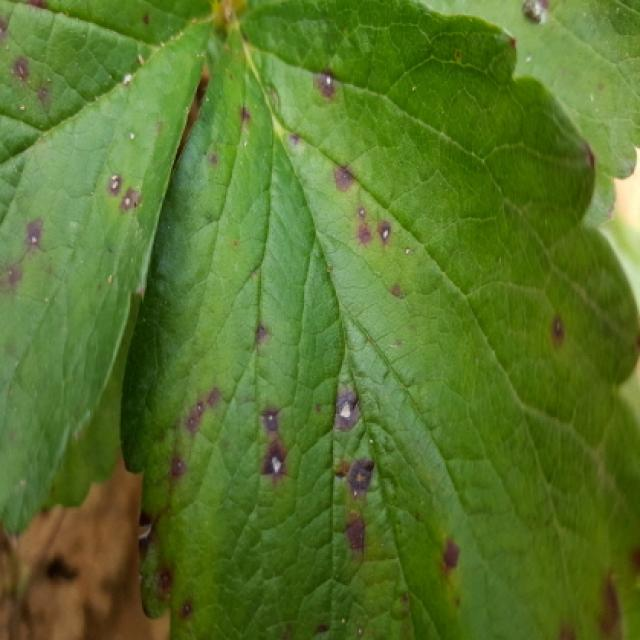Leaf Spot: (117, 0, 640, 638), (2, 0, 218, 551), (428, 0, 640, 229)
